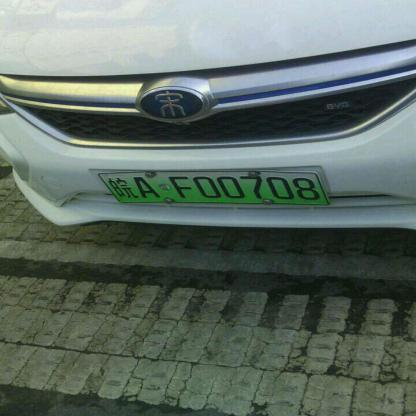lp: (98, 174, 329, 204)
